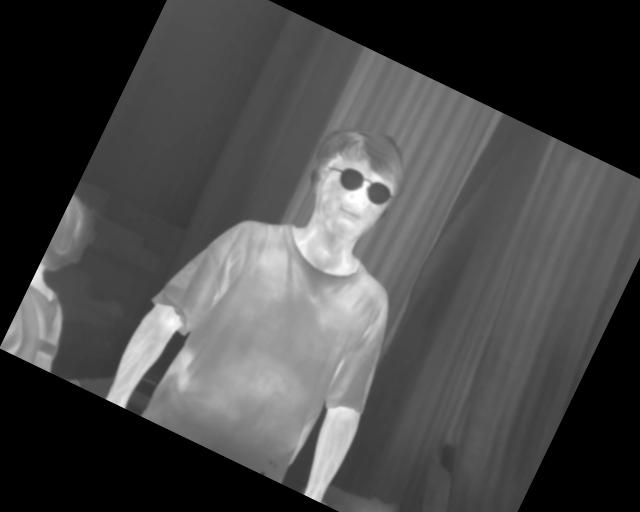face: (288, 111, 418, 252)
